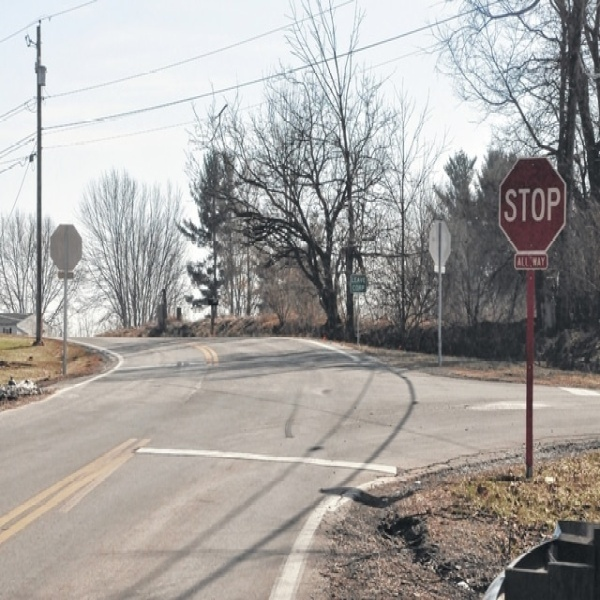stop: (497, 155, 567, 253)
